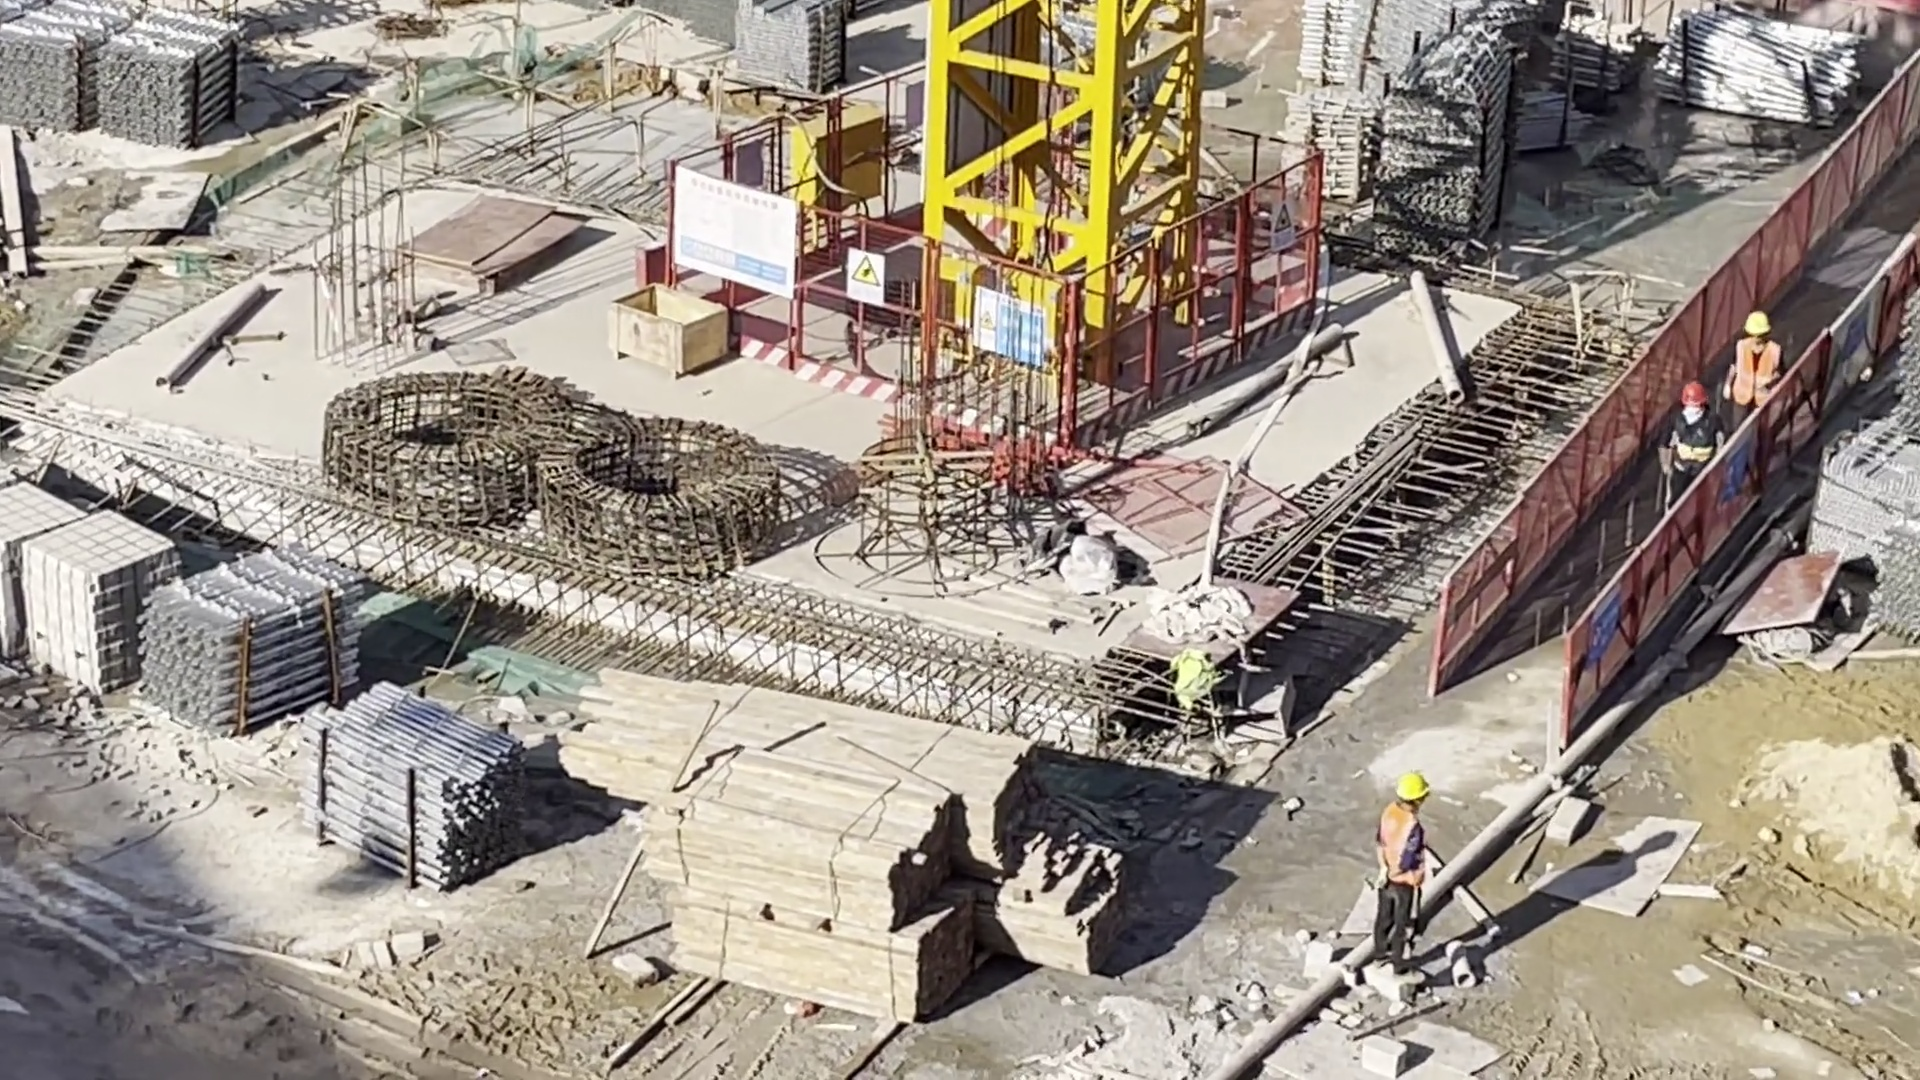board: (409, 201, 582, 280)
brick: (1, 473, 140, 684)
ebox: (794, 116, 883, 216)
fence: (1448, 54, 1920, 674)
helmet: (1400, 776, 1431, 803), (1747, 310, 1771, 338), (1683, 384, 1712, 403)
person: (1379, 776, 1425, 972), (1670, 387, 1715, 533), (1731, 310, 1783, 433)
scaffold: (1298, 1, 1509, 235), (308, 684, 521, 891), (144, 547, 361, 727), (1, 1, 243, 143), (1663, 12, 1854, 124), (737, 1, 843, 92), (1556, 10, 1647, 87)
slogan: (974, 293, 1047, 374), (1589, 591, 1624, 653), (1725, 429, 1752, 499), (850, 256, 882, 300), (1273, 204, 1296, 249)
vest: (1731, 341, 1777, 407), (1381, 804, 1416, 881)
wood: (597, 685, 1033, 874), (665, 751, 971, 1016)
